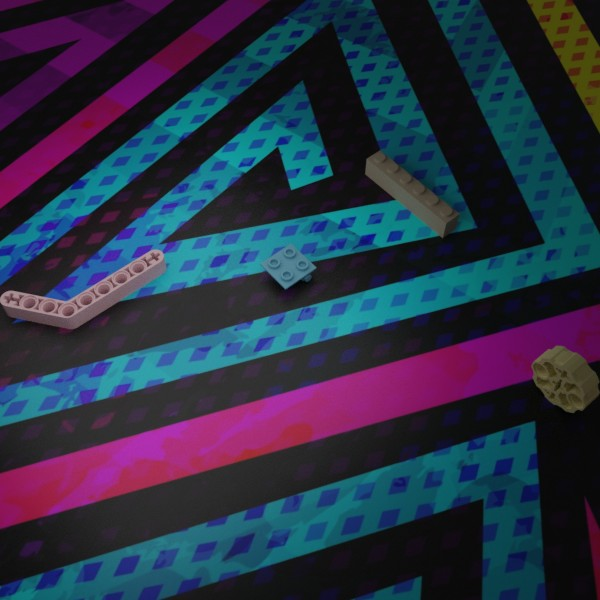lego: (0, 249, 166, 329), (365, 150, 459, 238), (531, 345, 599, 413), (260, 243, 316, 289)
